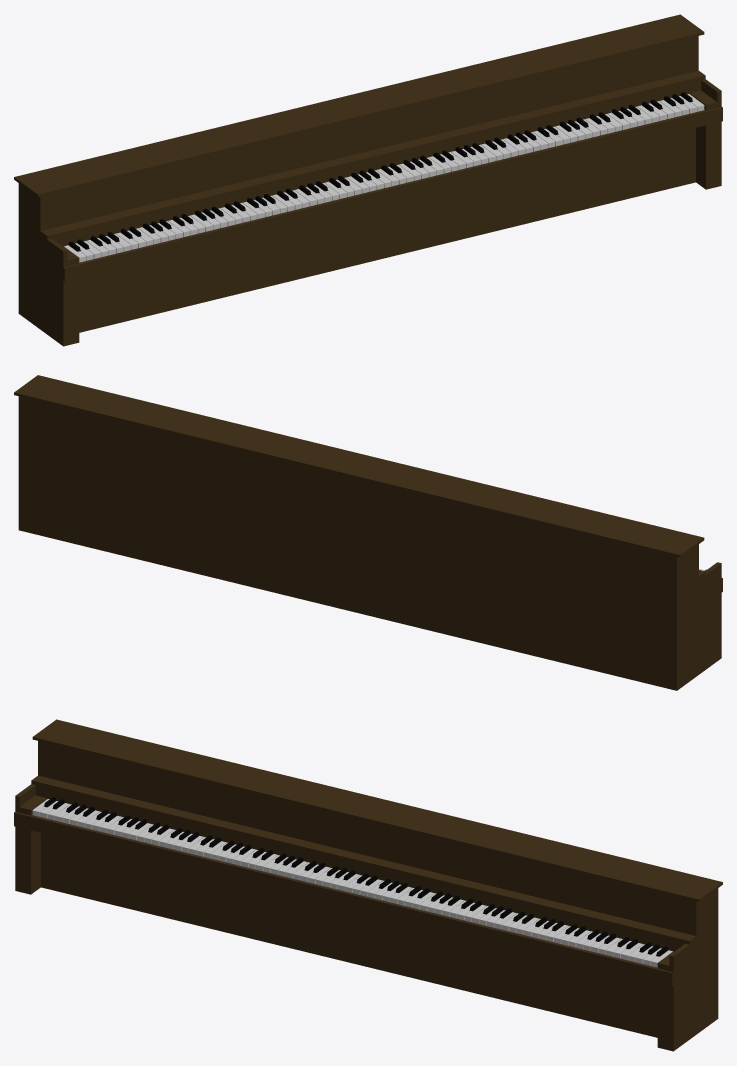
The model's file is piano.gltf.
3 views of the same model, one above another, from view 1: azimuth 30°, elevation 25°; view 2: azimuth 150°, elevation 25°; view 3: azimuth 330°, elevation 25° (orthographic).
Parts seen in each view (by area): view 1: Cube, Cube_003, Cube_005, White_keys, Cube_004, Black_keys, Cube_006; view 2: Cube, Cube_003, Cube_005, Cube_004; view 3: Cube, Cube_003, Cube_005, White_keys, Black_keys, Cube_004, Cube_006.
Boxes of the visible parts, x1=… form: Cube: x1=14, y1=14, x2=722, y2=281; Cube_003: x1=18, y1=94, x2=695, y2=332; Cube_005: x1=25, y1=70, x2=705, y2=319; White_keys: x1=64, y1=94, x2=704, y2=262; Cube_004: x1=33, y1=90, x2=721, y2=346; Black_keys: x1=68, y1=92, x2=692, y2=251; Cube_006: x1=47, y1=79, x2=721, y2=336; Cube: x1=14, y1=375, x2=722, y2=638; Cube_003: x1=18, y1=478, x2=691, y2=690; Cube_005: x1=683, y1=570, x2=705, y2=671; Cube_004: x1=691, y1=569, x2=721, y2=679; Cube: x1=14, y1=719, x2=722, y2=986; Cube_003: x1=41, y1=799, x2=718, y2=1043; Cube_005: x1=31, y1=775, x2=711, y2=955; White_keys: x1=32, y1=799, x2=672, y2=967; Black_keys: x1=44, y1=797, x2=668, y2=956; Cube_004: x1=15, y1=795, x2=685, y2=1051; Cube_006: x1=15, y1=784, x2=689, y2=1040.
Bounding box in the file's own units: 33.18 × 6.53 × 4.02.
